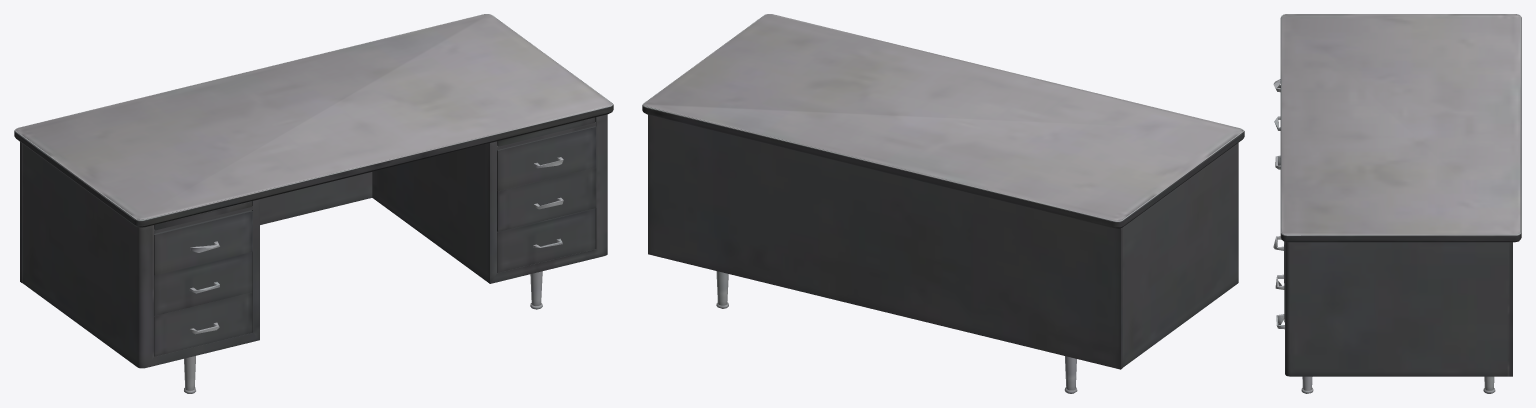
File: deskMetal_lo.glb
3 renders of one model, left to right at view 1: azimuth 30°, elevation 25°; view 2: azimuth 150°, elevation 25°; view 3: azimuth 270°, elevation 25°, orthographic. The views are drawn at different scales.
Visible parts, largest first — view 1: metal_office_desk, metal_office_desk_drawer_04, metal_office_desk_drawer_01, metal_office_desk_drawer_02, metal_office_desk_drawer_03, metal_office_desk_drawer_06, metal_office_desk_drawer_05, metal_office_desk_tray_01, metal_office_desk_tray_02; view 2: metal_office_desk; view 3: metal_office_desk.
Boxes of the visible parts, box(x1,y1,x2,y2) form: metal_office_desk: box(14, 14, 613, 393); metal_office_desk_drawer_04: box(154, 210, 252, 275); metal_office_desk_drawer_01: box(497, 126, 596, 191); metal_office_desk_drawer_02: box(497, 167, 596, 231); metal_office_desk_drawer_03: box(497, 208, 595, 272); metal_office_desk_drawer_06: box(154, 292, 252, 356); metal_office_desk_drawer_05: box(154, 252, 252, 315); metal_office_desk_tray_01: box(154, 201, 252, 230); metal_office_desk_tray_02: box(497, 117, 595, 146); metal_office_desk: box(642, 14, 1244, 393); metal_office_desk: box(1280, 14, 1521, 393).
Size of the model in its own units: 2 by 0.7867 by 0.9452.
1 material, 1 textured.
